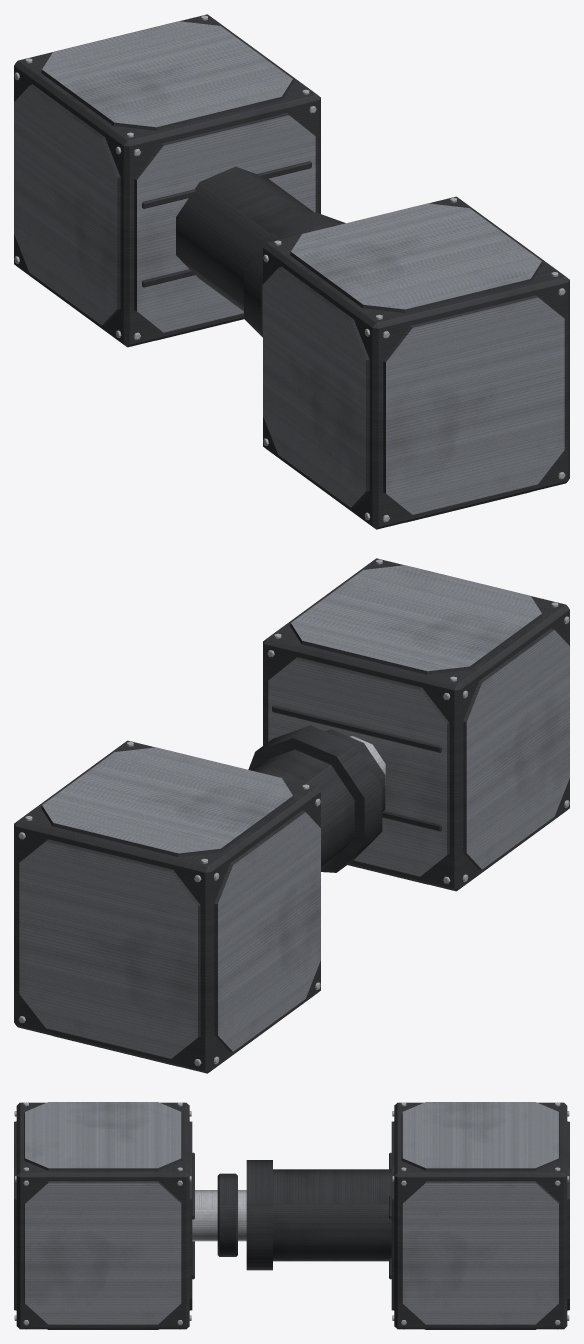
File: R4C_STRUT_STANDARD.glb
3 renders of one model, top to bottom at view 1: azimuth 30°, elevation 25°; view 2: azimuth 150°, elevation 25°; view 3: azimuth 270°, elevation 25°, orthographic. The views are drawn at different scales.
Visible parts, largest first — view 1: R4C_STRUT_STANDARD; view 2: R4C_STRUT_STANDARD; view 3: R4C_STRUT_STANDARD.
Part boxes in pixels (x1,y1,x2,y2): R4C_STRUT_STANDARD: (14, 14, 569, 529); R4C_STRUT_STANDARD: (14, 558, 569, 1073); R4C_STRUT_STANDARD: (14, 1102, 569, 1329).
Bounding box in the file's own units: 0.52 × 0.52 × 1.62.
4 materials, 4 textured.
